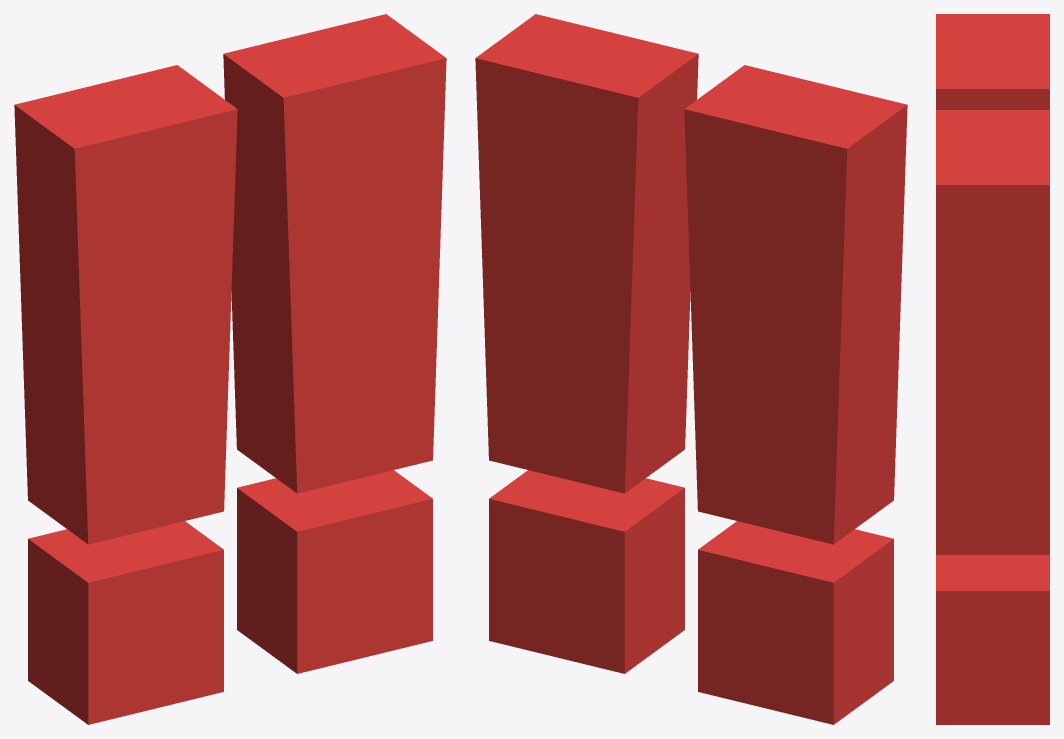
The model's file is double_exclamation_mark.gltf.
3 renders of one model, left to right at view 1: azimuth 30°, elevation 25°; view 2: azimuth 150°, elevation 25°; view 3: azimuth 270°, elevation 25°, orthographic. The views are drawn at different scales.
Visible parts, largest first — view 1: Cube.6444; view 2: Cube.6444; view 3: Cube.6444.
Boxes of the visible parts, <box> form: Cube.6444: <box>14,14,446,724</box>; Cube.6444: <box>475,14,907,724</box>; Cube.6444: <box>936,14,1049,724</box>.
Size of the model in its own units: 1.49 by 2.22 by 0.418.
Materials: 1 (1 with a texture image).
